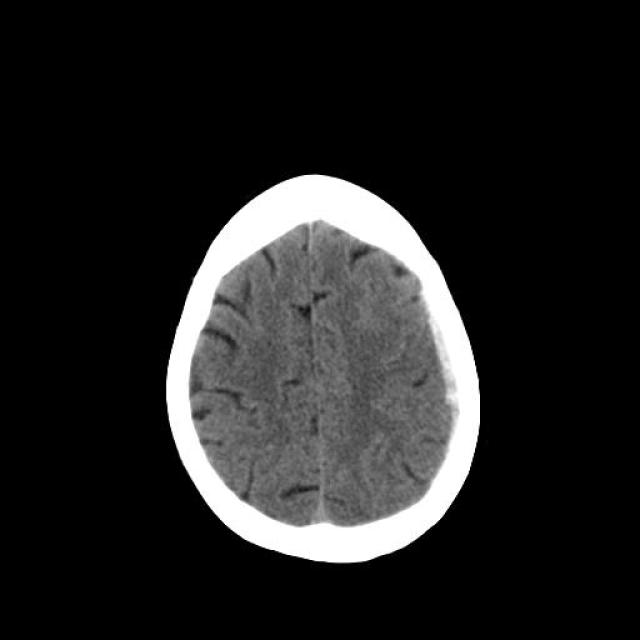Subdural: (416, 269, 494, 466)
